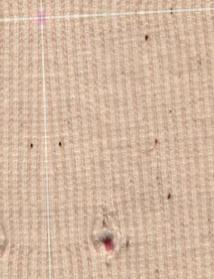hole: (88, 221, 126, 269)
stain: (158, 183, 182, 208), (21, 134, 44, 157), (134, 26, 159, 47), (52, 135, 72, 158), (146, 131, 169, 151)
